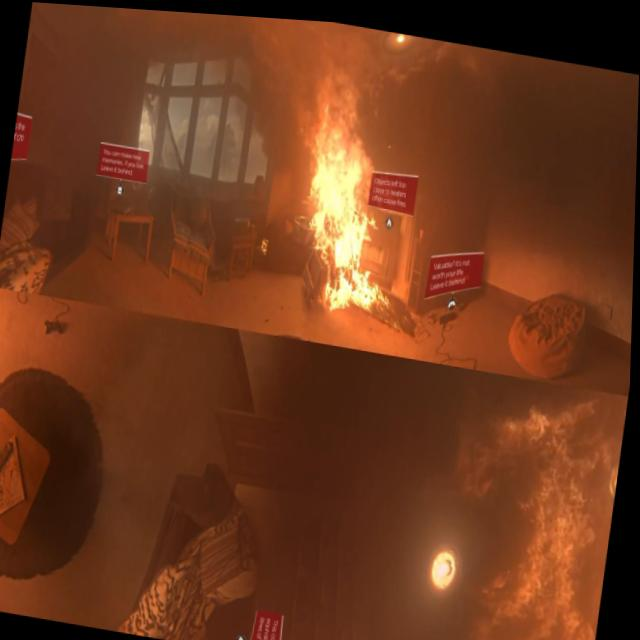fire: (293, 91, 426, 322)
